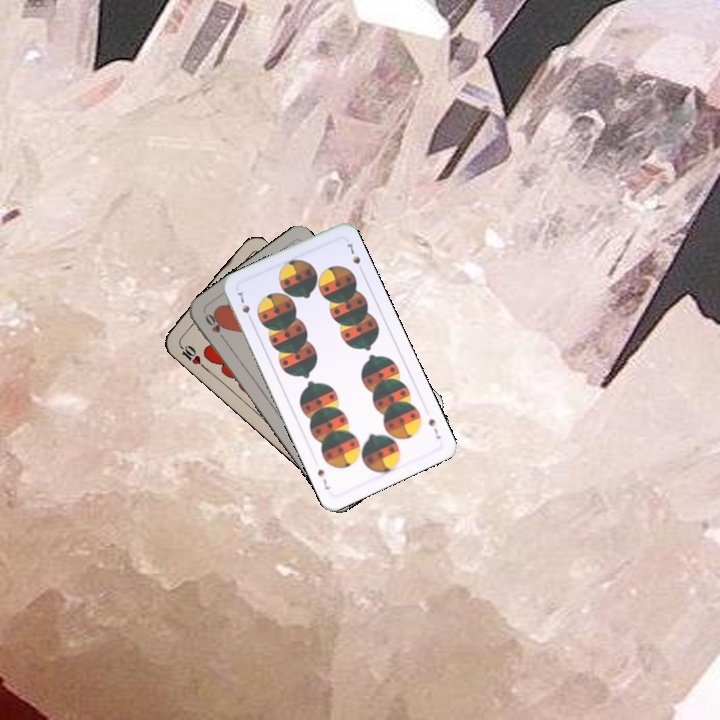H10: (174, 339, 207, 371)
HO: (201, 309, 229, 344)
S7: (234, 286, 255, 325), (424, 415, 444, 442)
